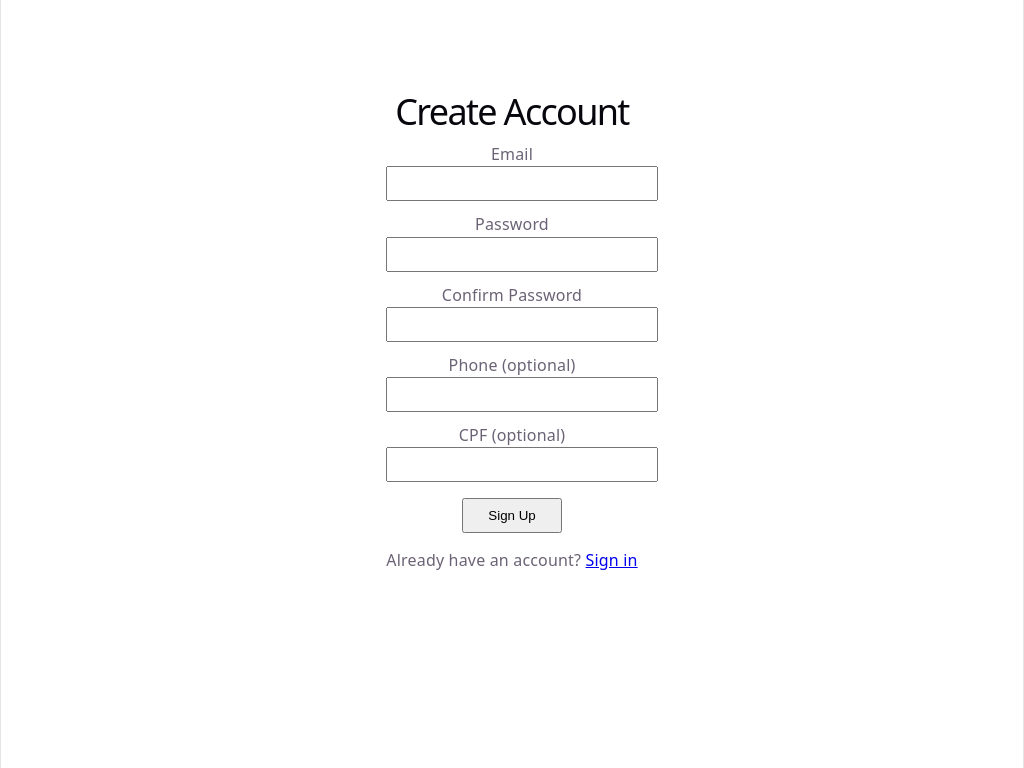
Scenario: RegisterPage › renders field errors on 400 response
Type "existing@example.com" into the field labelled "Email" at (522, 184), box x1=386 y1=166 x2=658 y2=201
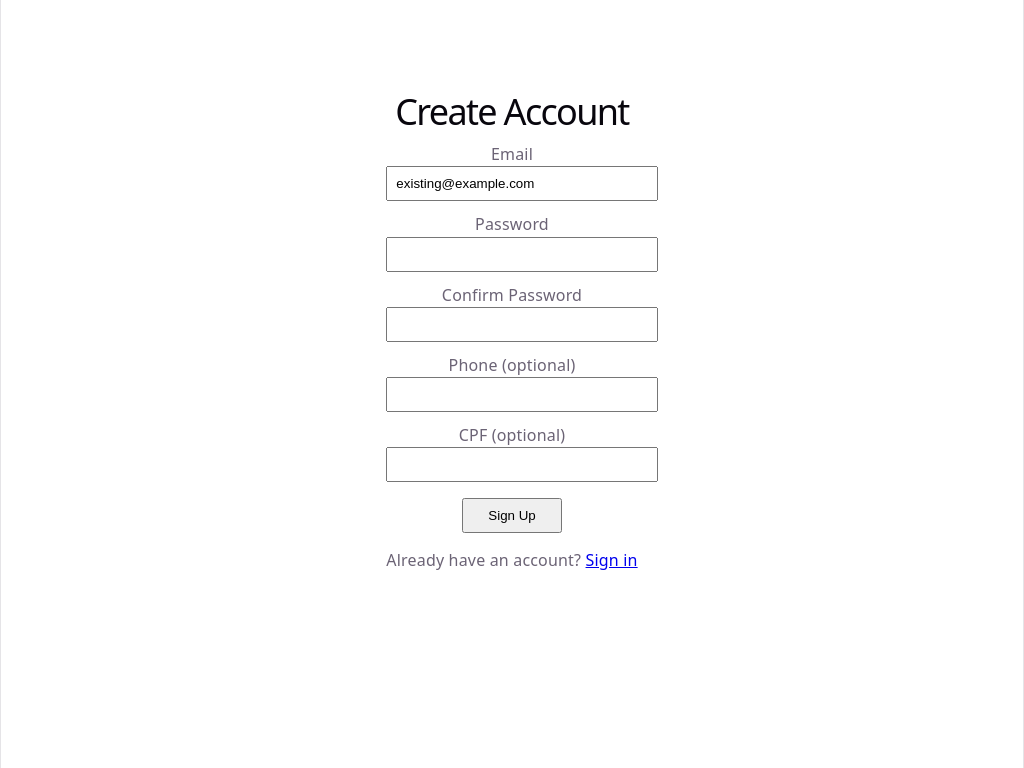
Type "short" into the password field labelled "Password" at (522, 254), box x1=386 y1=237 x2=658 y2=272
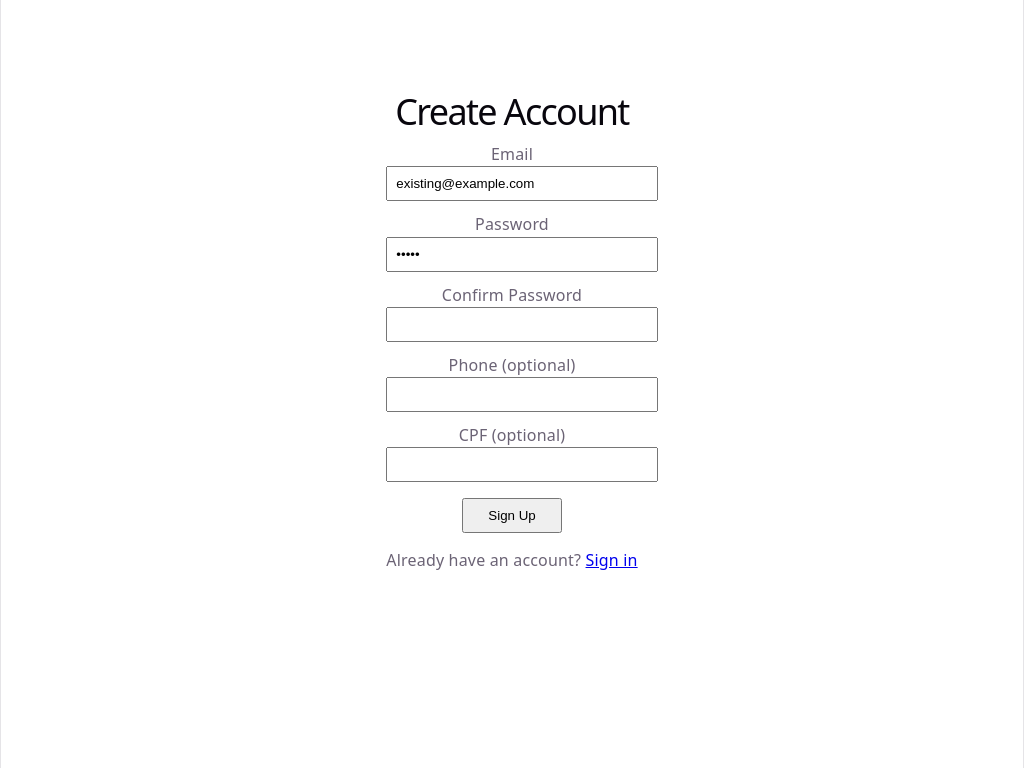
Type "short" into the password field labelled "Confirm Password" at (522, 324), box x1=386 y1=307 x2=658 y2=342
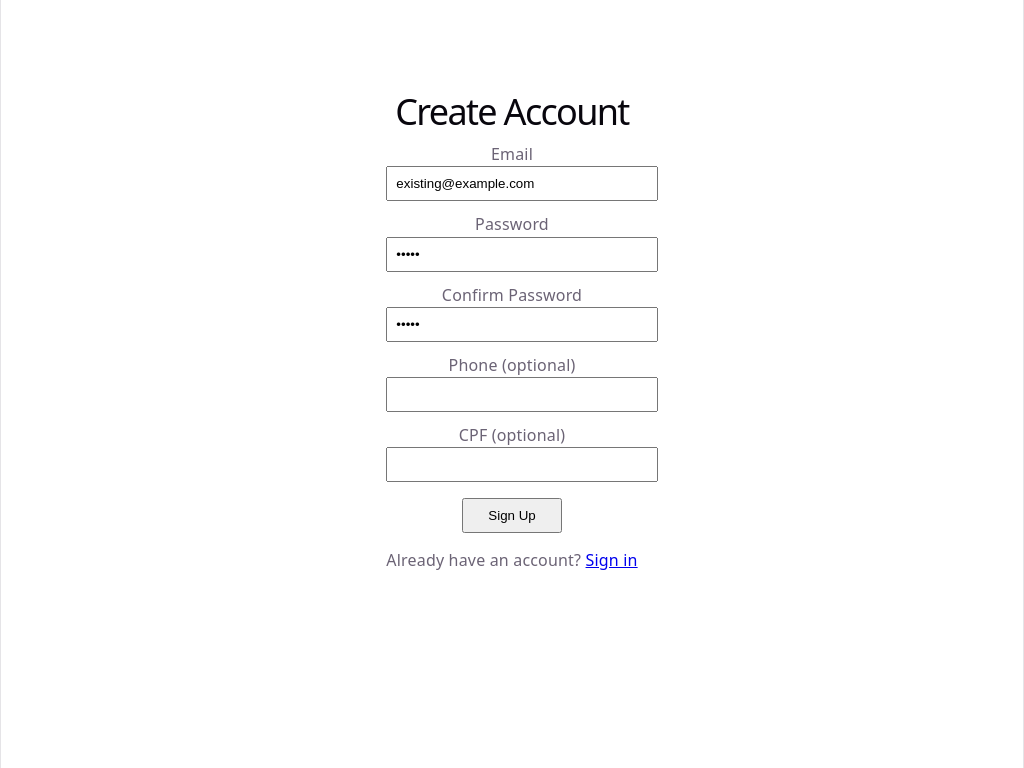
Click the button "Sign Up" at (512, 516), box x1=462 y1=498 x2=562 y2=533
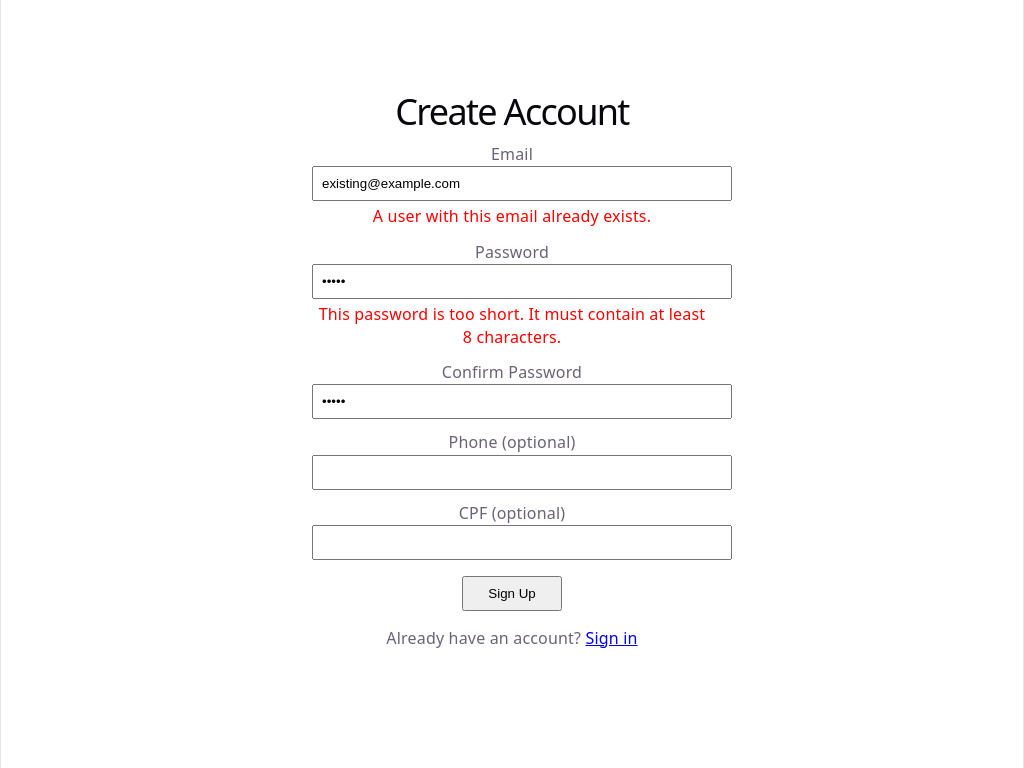
Expected: the text "A user with this email already exists." is shown, x1=373 y1=205 x2=651 y2=227
Expected: the text "This password is too short. It must contain at least 8 characters." is shown, x1=312 y1=303 x2=712 y2=349
